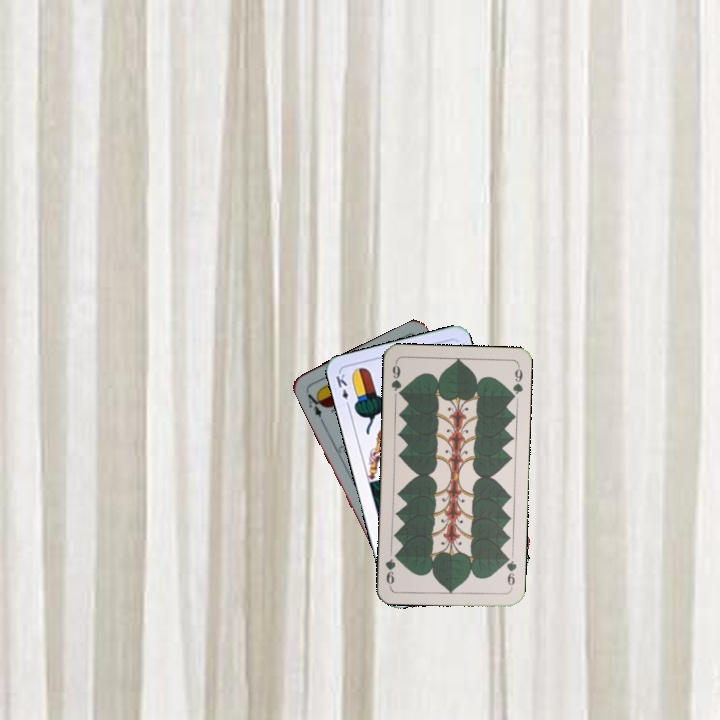EA: (302, 387, 327, 425)
EK: (332, 370, 353, 410)
G9: (387, 359, 405, 399), (501, 551, 519, 591)
